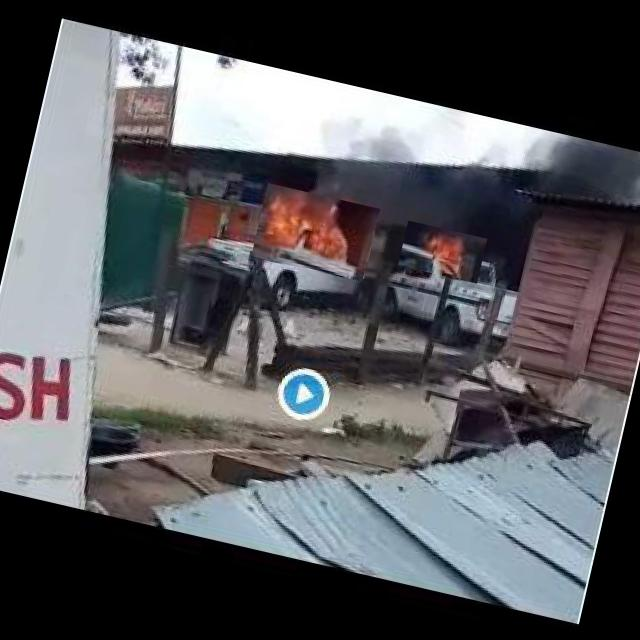fire: (250, 182, 380, 282), (398, 220, 487, 283)
